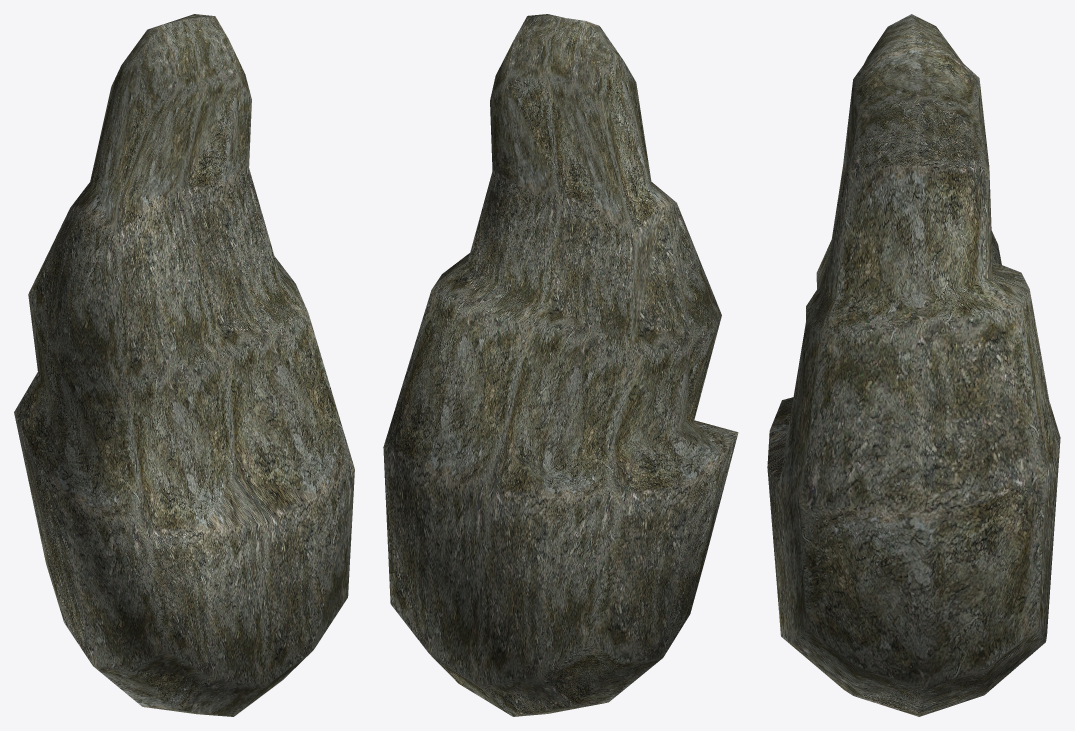
The model's file is rock_dant_a4_l0.fbx.
3 renders of one model, left to right at view 1: azimuth 30°, elevation 25°; view 2: azimuth 150°, elevation 25°; view 3: azimuth 270°, elevation 25°, orthographic. The views are drawn at different scales.
Visible parts, largest first — view 1: mesh_node; view 2: mesh_node; view 3: mesh_node.
Part boxes in pixels (left/top/right/bottom): mesh_node: left=14, top=14, right=354, bottom=716; mesh_node: left=383, top=14, right=738, bottom=716; mesh_node: left=767, top=14, right=1060, bottom=716.
Size of the model in its own units: 2.16 by 5.52 by 2.15.
Materials: 1 (1 with a texture image).
